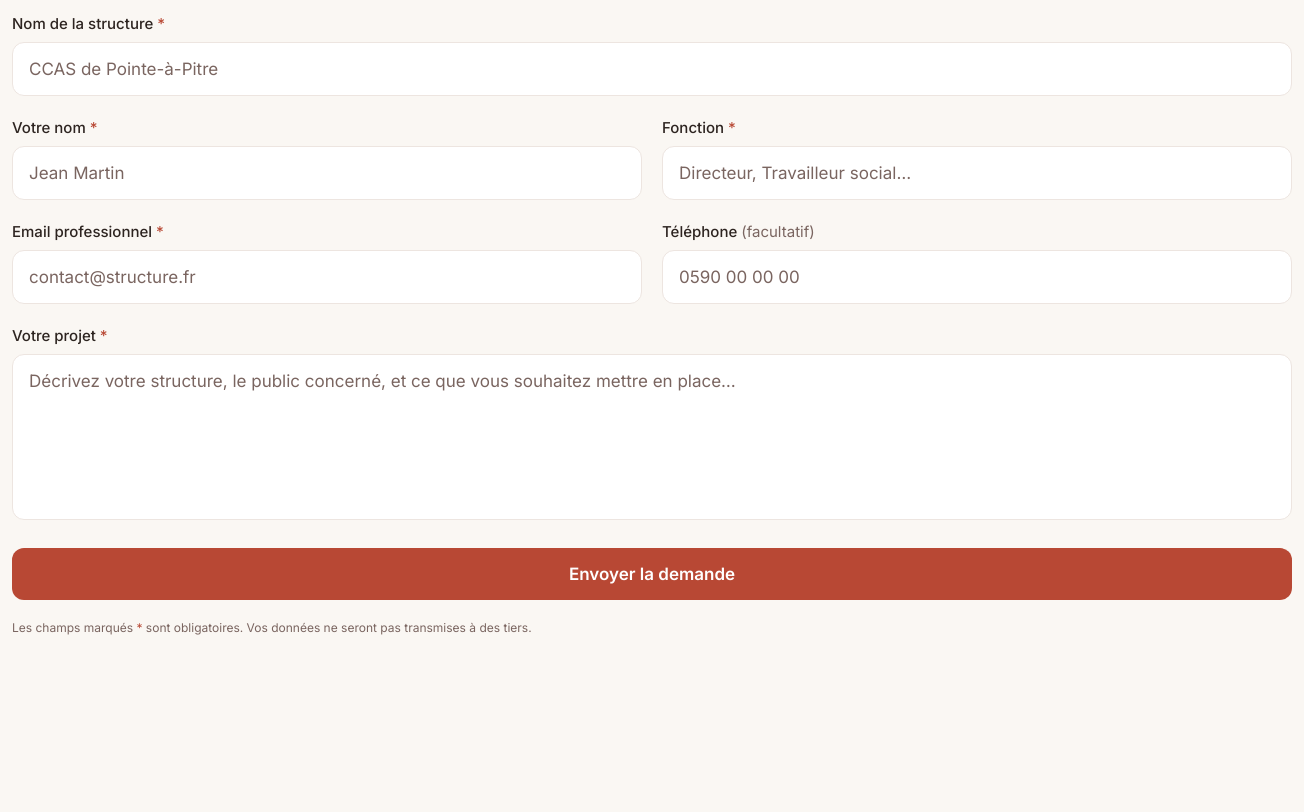
Test case: InstitutionForm — validation côté client › affiche les erreurs si on soumet vide
Click the button "Envoyer la demande".
click(652, 574)  # box x1=12 y1=548 x2=1292 y2=600
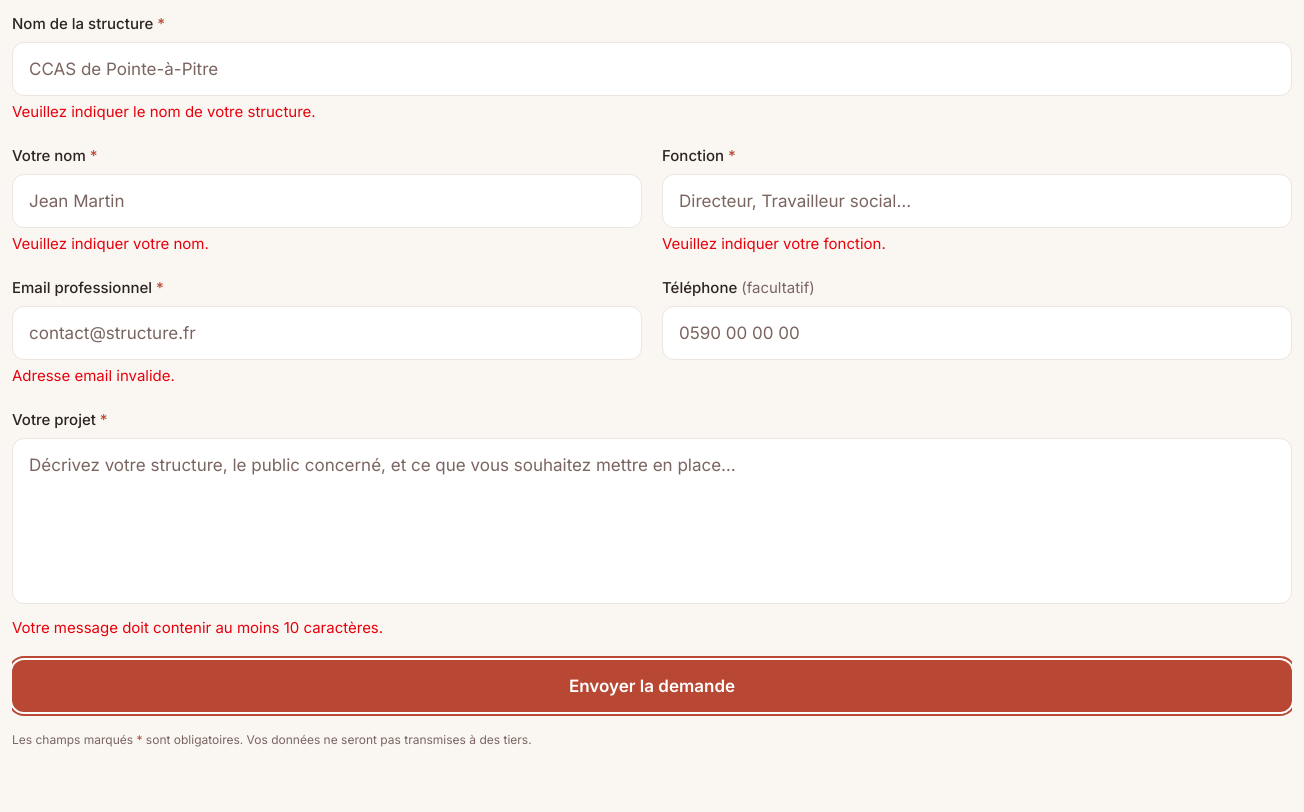
Now the text "Veuillez indiquer le nom de votre structure." is shown, box x1=12 y1=102 x2=316 y2=121
Now the text "Adresse email invalide." is shown, box x1=12 y1=366 x2=175 y2=385
